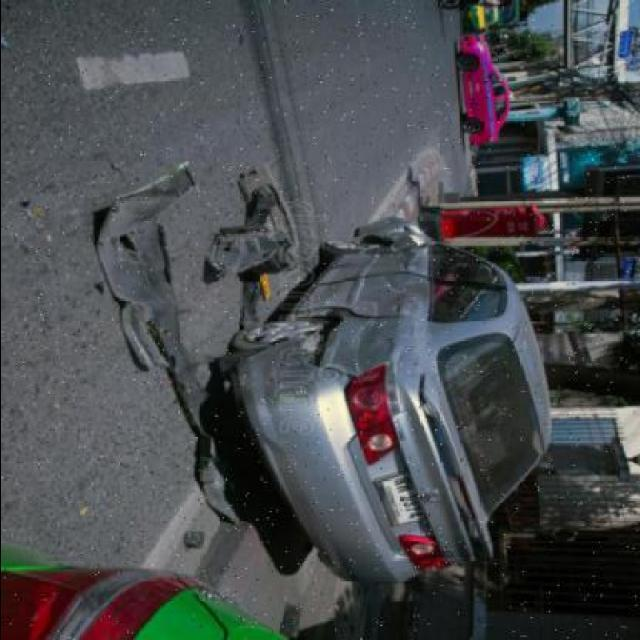doorouter-dent: (305, 276, 428, 318), (329, 247, 428, 279)
quaterpanel-dent: (313, 320, 419, 400)
rear-bumper-dent: (225, 328, 329, 442)
